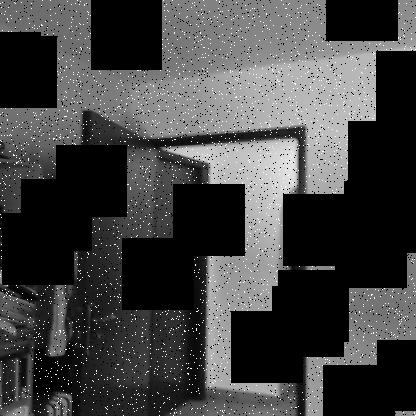Porte: (72, 108, 307, 415)
